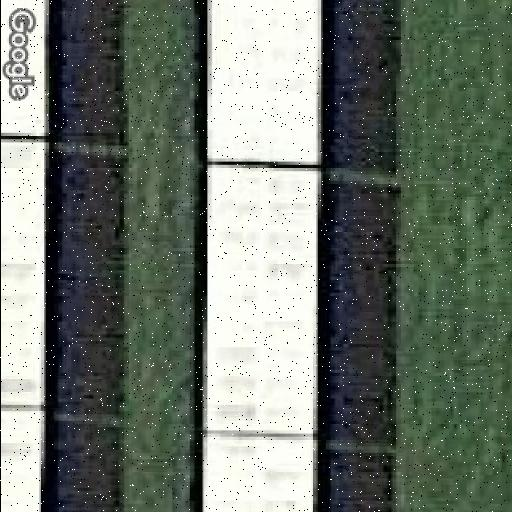solar-panel: (202, 0, 324, 512), (0, 0, 53, 512)
